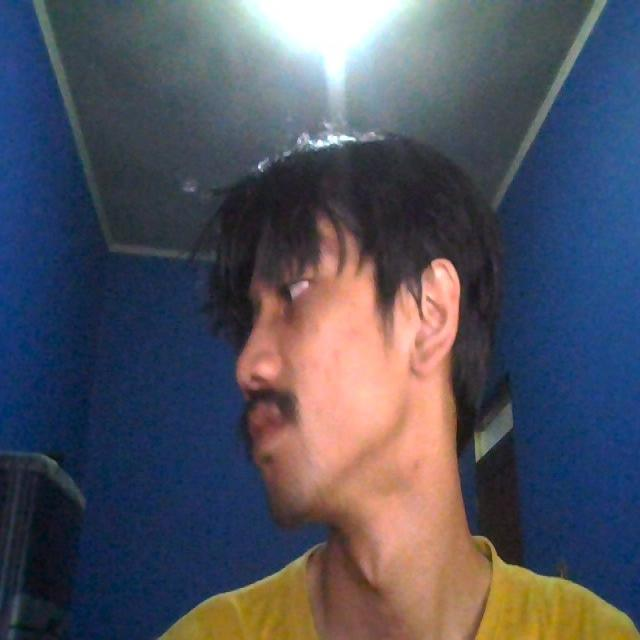Melihat kekanan: (170, 112, 500, 533)
